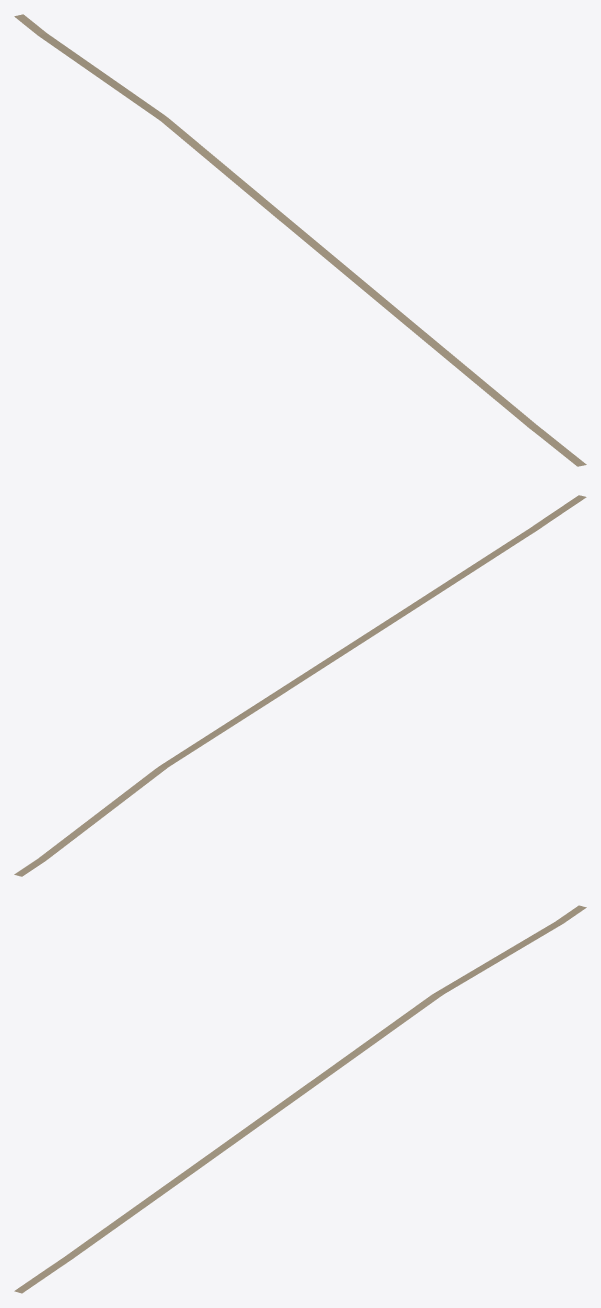
File: farm_12_18_track.glb
3 renders of one model, top to bottom at view 1: azimuth 30°, elevation 25°; view 2: azimuth 150°, elevation 25°; view 3: azimuth 330°, elevation 25°, orthographic. The views are drawn at different scales.
Visible parts, largest first — view 1: geometry_0; view 2: geometry_0; view 3: geometry_0.
Part boxes in pixels (bbox=[...]): geometry_0: bbox=[14, 14, 586, 466]; geometry_0: bbox=[14, 495, 586, 876]; geometry_0: bbox=[14, 905, 586, 1293].
Size of the model in its own units: 15.79 by 5.17 by 368.
